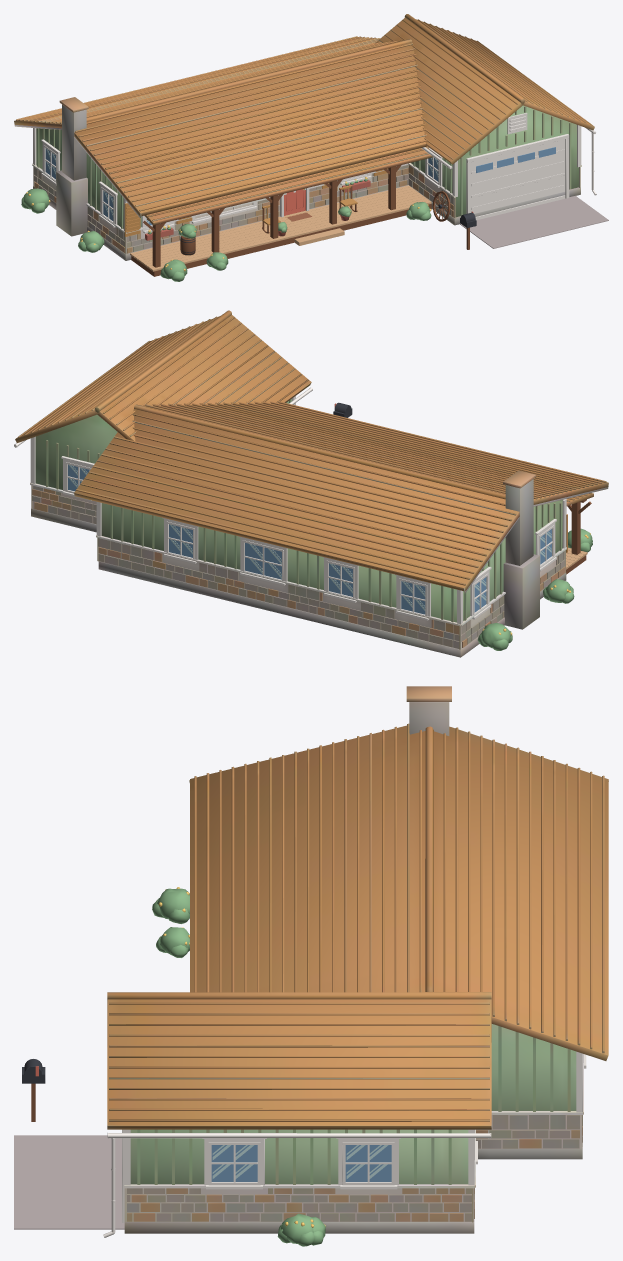
File: ranch-house-6dfcb2d1.glb
3 renders of one model, top to bottom at view 1: azimuth 30°, elevation 25°; view 2: azimuth 150°, elevation 25°; view 3: azimuth 270°, elevation 25°, orthographic. The views are drawn at different scales.
Parts seen in each view (by area): view 1: ranch-house_body, ranch-house_details; view 2: ranch-house_body, ranch-house_details; view 3: ranch-house_body, ranch-house_details.
Boxes of the visible parts, <box> form: ranch-house_body: <box>14,14,594,260</box>; ranch-house_details: <box>21,113,608,281</box>; ranch-house_body: <box>15,310,608,657</box>; ranch-house_details: <box>14,387,592,650</box>; ranch-house_body: <box>107,686,608,1233</box>; ranch-house_details: <box>14,887,586,1246</box>.
Bounding box in the file's own units: 20.19 × 5.28 × 13.76.
Materials: 2 (2 with a texture image).
